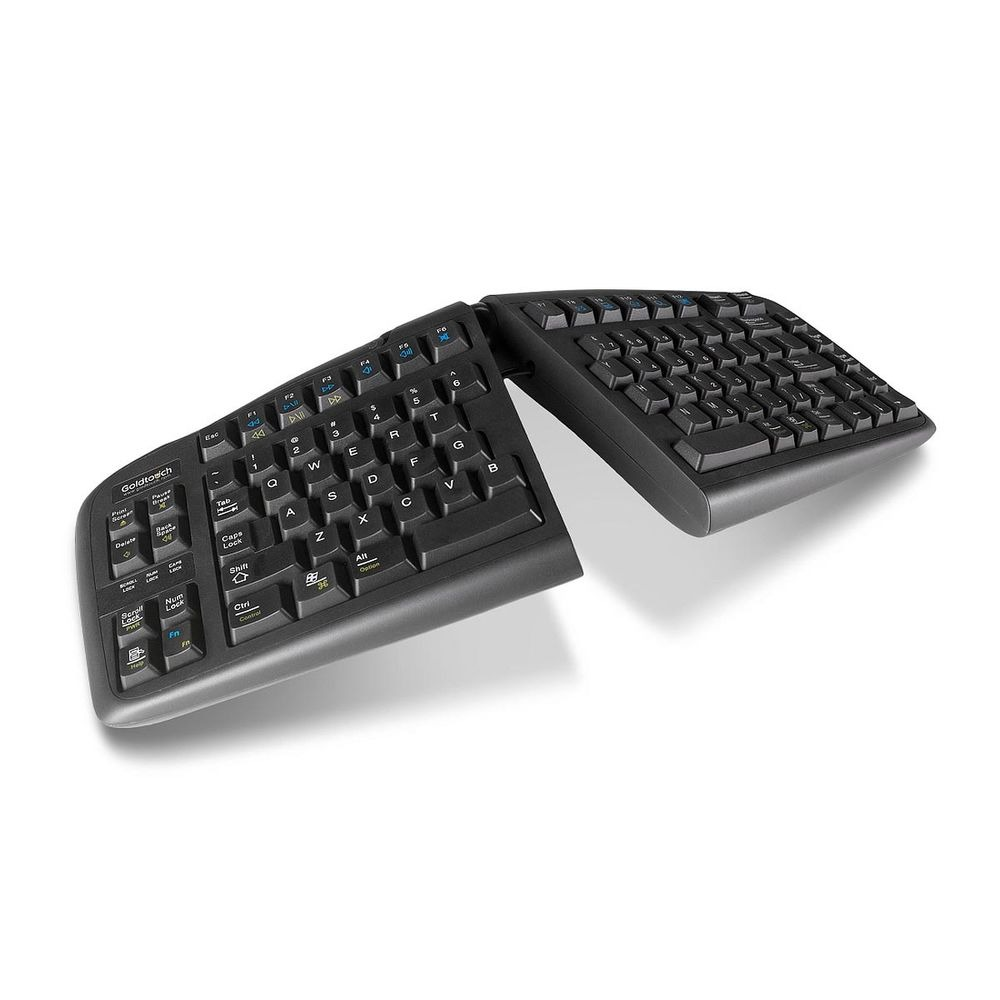keyboard: (28, 258, 944, 741)
